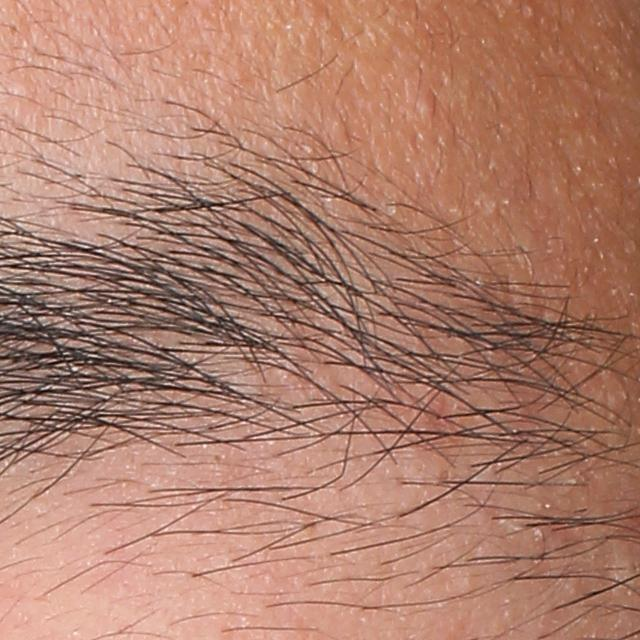comedo: (421, 97, 438, 122)
